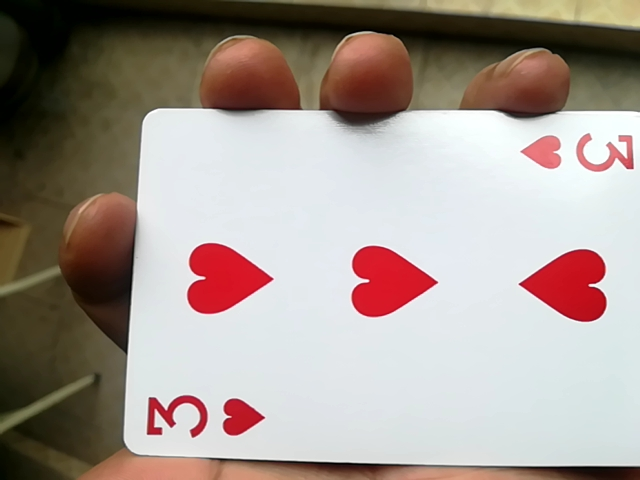hx 3: (108, 118, 633, 480)
